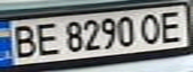0: (115, 14, 139, 47)
2: (81, 16, 103, 52)
8: (60, 18, 84, 53)
9: (100, 15, 121, 51)
B: (6, 22, 39, 60)
E: (154, 8, 187, 43), (30, 20, 60, 56)
O: (136, 11, 166, 45)
